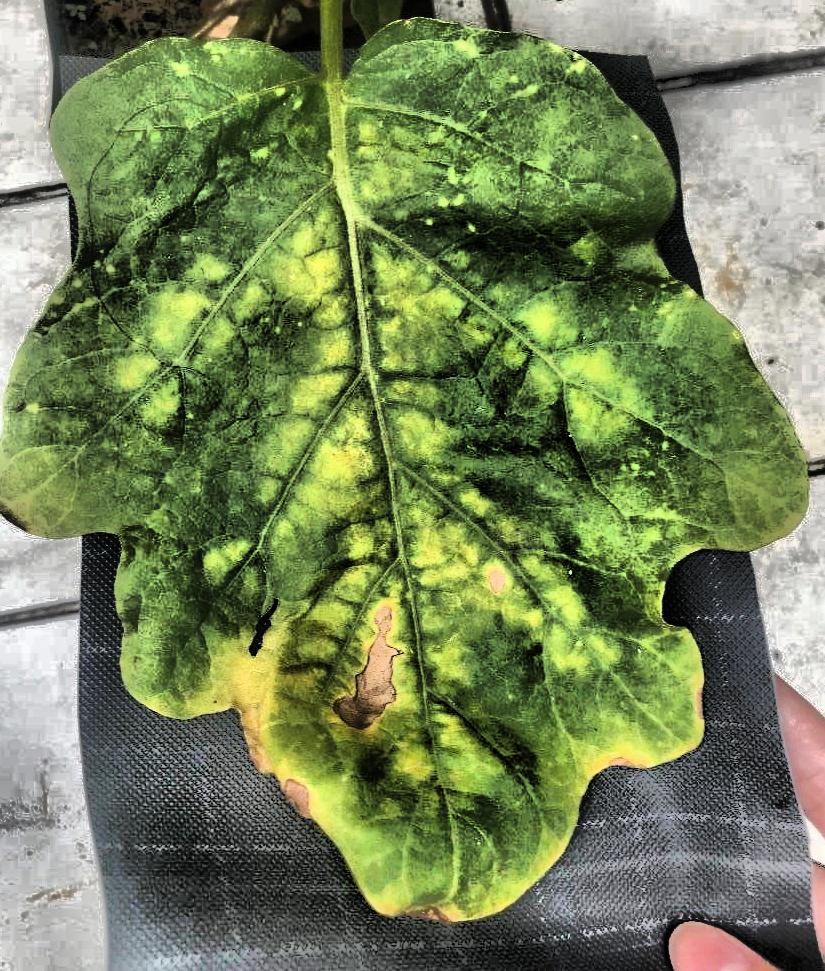Critical Stress: (1, 0, 825, 971)
